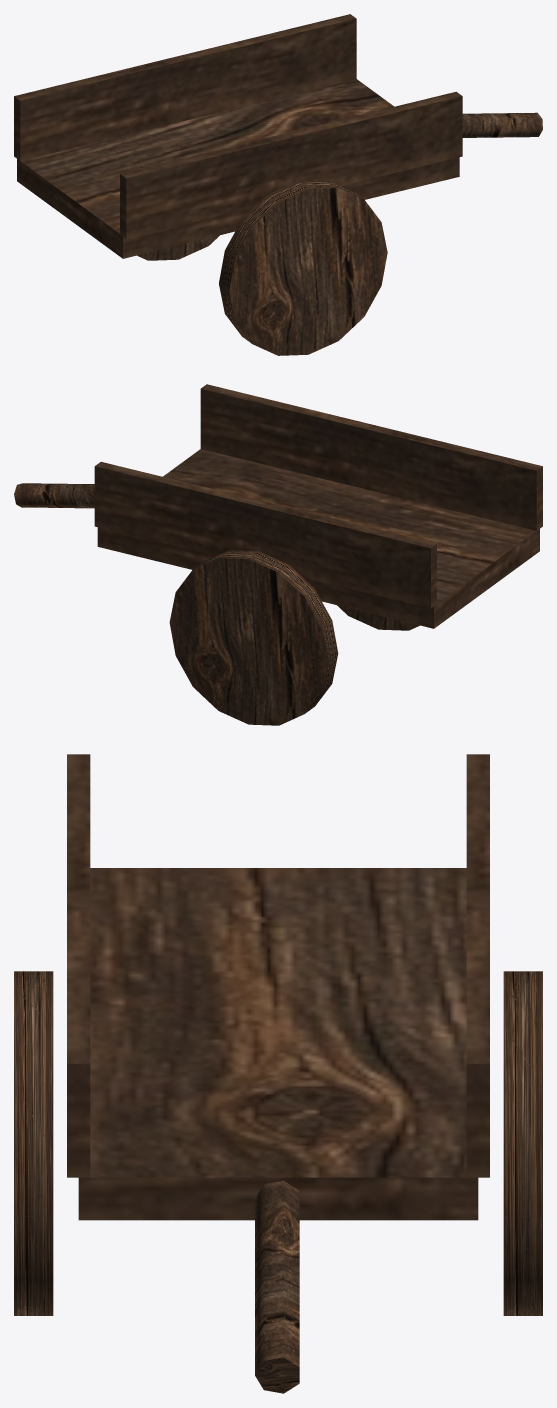
File: cart.glb
3 renders of one model, top to bottom at view 1: azimuth 30°, elevation 25°; view 2: azimuth 150°, elevation 25°; view 3: azimuth 270°, elevation 25°, orthographic. The views are drawn at different scales.
Visible parts, largest first — view 1: part_0; view 2: part_0; view 3: part_0.
Boxes of the visible parts, <box> form: part_0: <box>14,14,542,355</box>; part_0: <box>14,384,542,725</box>; part_0: <box>14,754,542,1393</box>.
Size of the model in its own units: 1.3 by 0.55 by 0.6747.
1 material, 1 textured.
